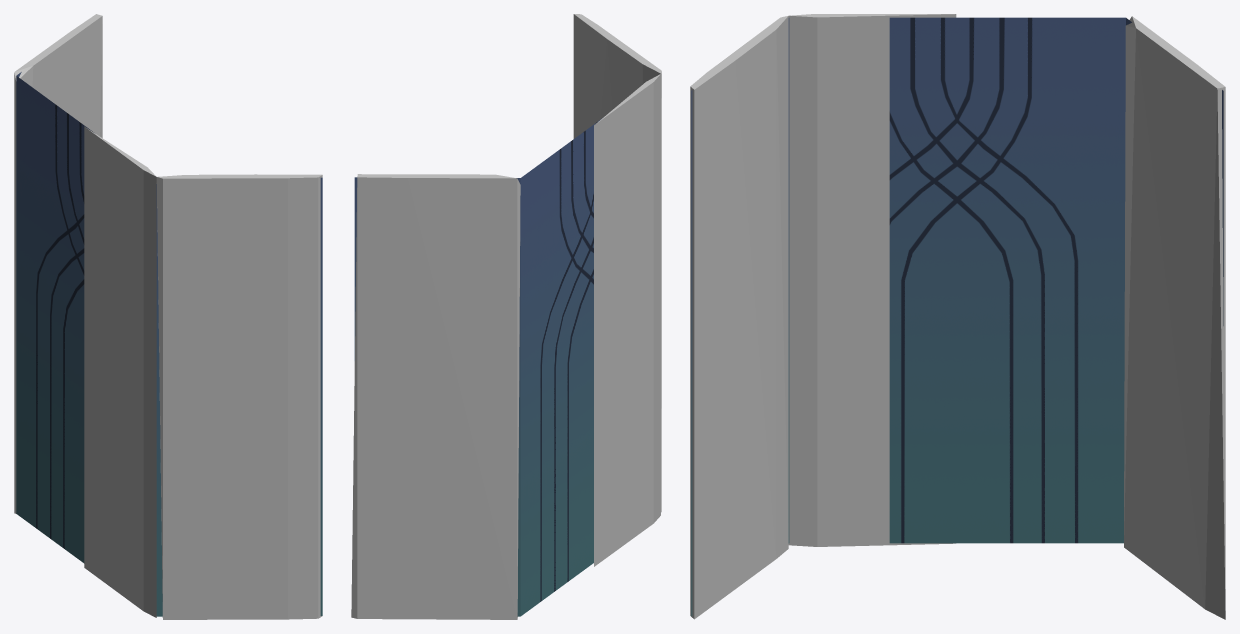
Rendered from SM_Bld_Window_Box_03_Glass_01.fbx.
The picture shows the model from 3 angles, left to right: view 1: azimuth 30°, elevation 25°; view 2: azimuth 150°, elevation 25°; view 3: azimuth 270°, elevation 25°; orthographic projection. The views are drawn at different scales.
Visible parts, largest first — view 1: SM_Bld_Window_Box_03_Glass_01_ConvexHulls, SM_Bld_Window_Box_03_Glass_01; view 2: SM_Bld_Window_Box_03_Glass_01_ConvexHulls, SM_Bld_Window_Box_03_Glass_01; view 3: SM_Bld_Window_Box_03_Glass_01_ConvexHulls, SM_Bld_Window_Box_03_Glass_01.
Boxes of the visible parts, box(x1,y1,x2,y2) form: SM_Bld_Window_Box_03_Glass_01_ConvexHulls: box(14, 14, 322, 619); SM_Bld_Window_Box_03_Glass_01: box(16, 72, 322, 616); SM_Bld_Window_Box_03_Glass_01_ConvexHulls: box(351, 14, 661, 619); SM_Bld_Window_Box_03_Glass_01: box(354, 118, 602, 616); SM_Bld_Window_Box_03_Glass_01_ConvexHulls: box(690, 14, 1225, 619); SM_Bld_Window_Box_03_Glass_01: box(691, 17, 1223, 616).
Bounding box in the file's own units: 38.7 × 115 × 125.
Materials: 2 (1 with a texture image).
